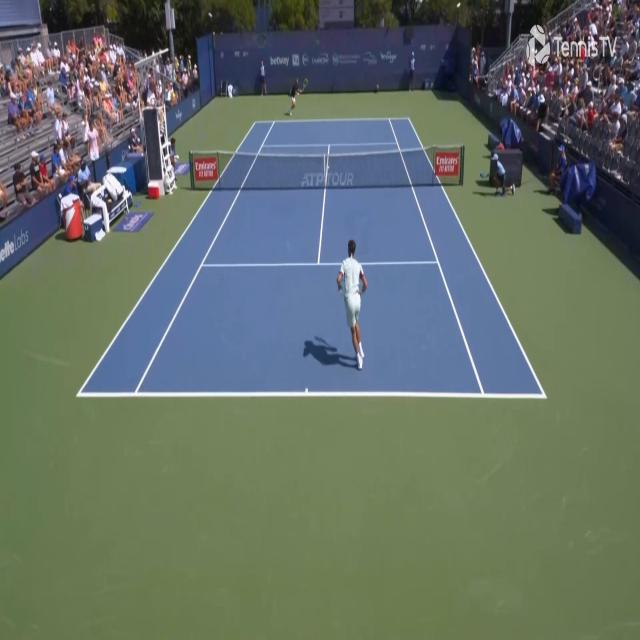tennis-player: (336, 236, 368, 370), (288, 78, 308, 114)
